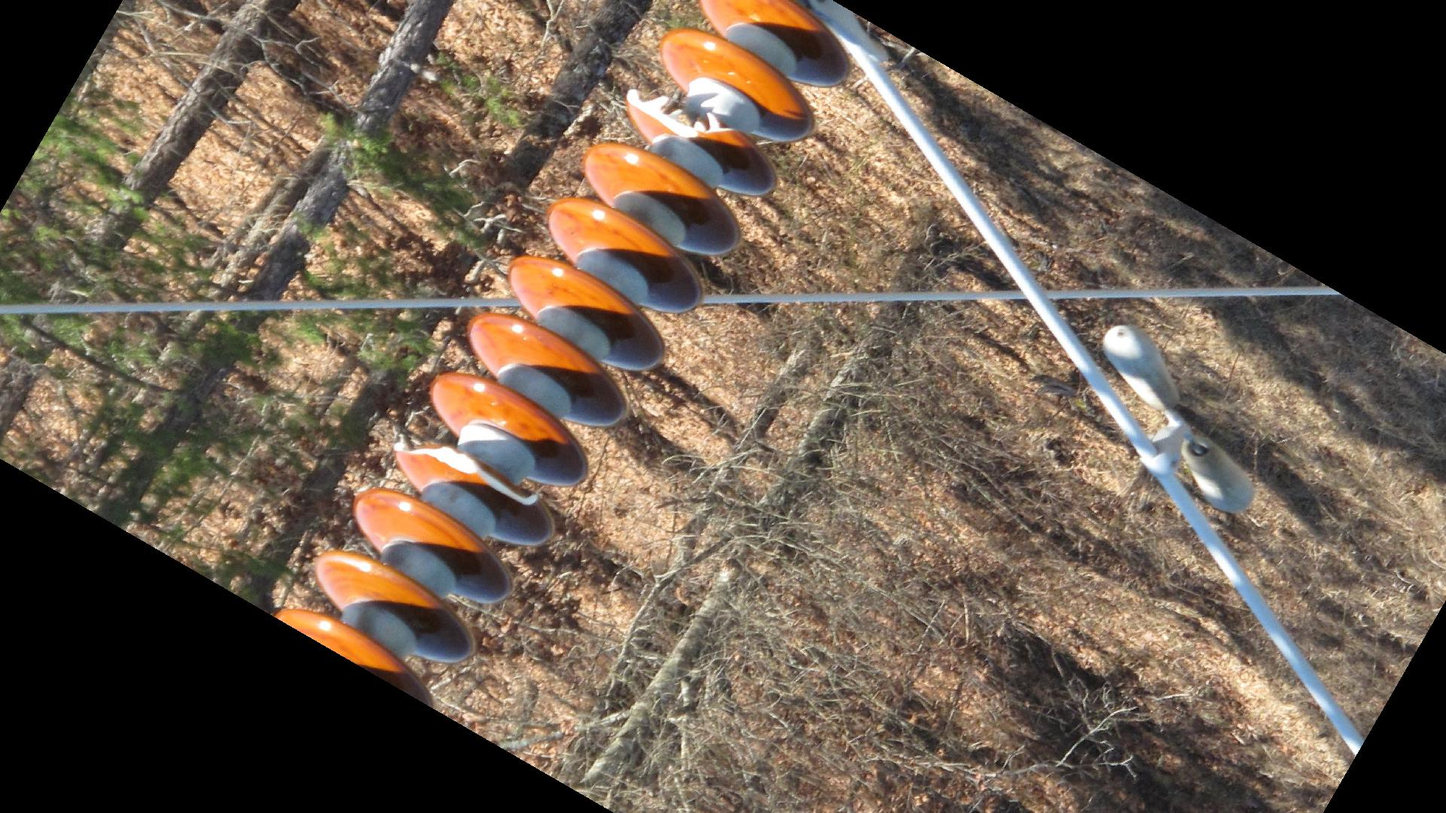insulator: (267, 1, 862, 717)
insulator_breakage: (386, 433, 547, 512), (618, 84, 743, 148)
